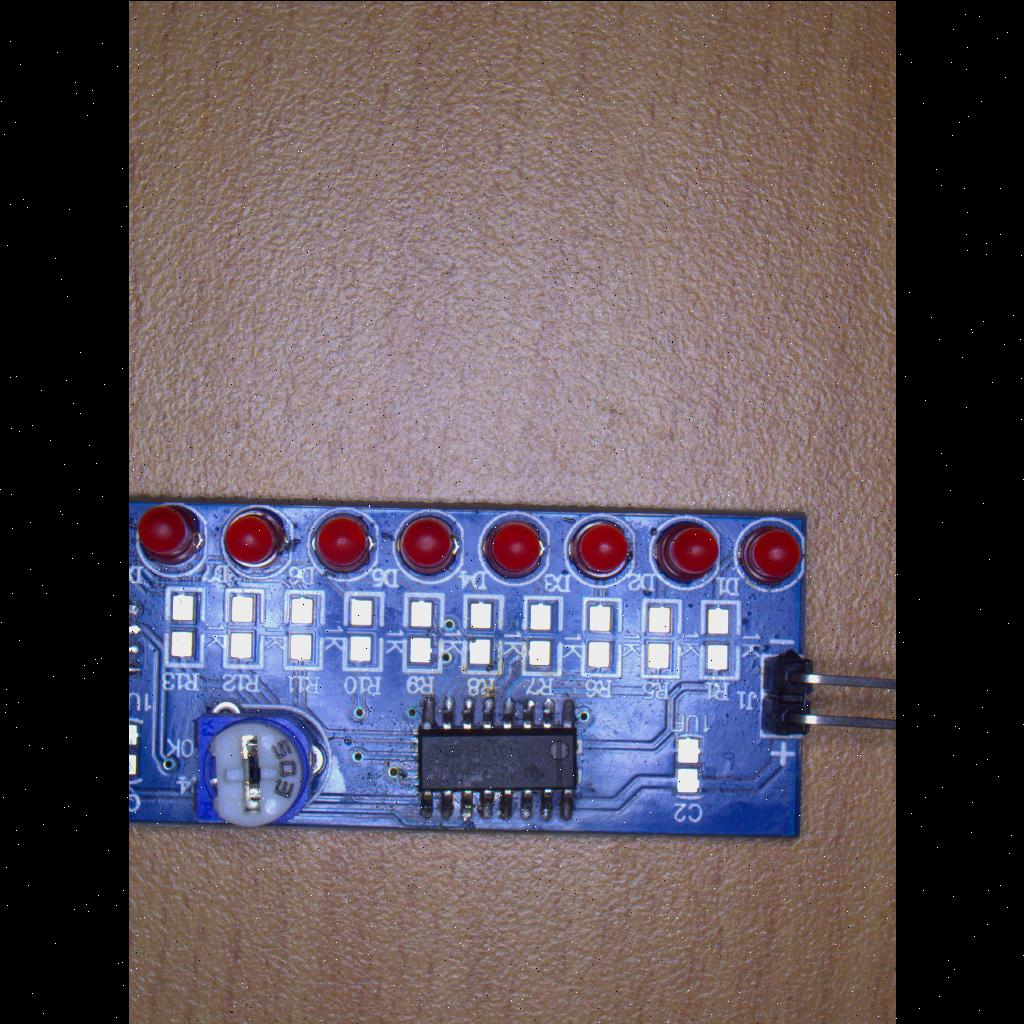NG: (515, 591, 567, 677), (218, 583, 266, 673), (457, 588, 505, 676), (160, 582, 206, 672), (280, 584, 326, 674), (340, 587, 386, 675), (578, 592, 624, 680), (402, 588, 448, 676), (640, 592, 684, 682), (698, 594, 742, 682), (666, 730, 706, 804), (128, 714, 142, 784)
OK: (412, 688, 586, 828)
